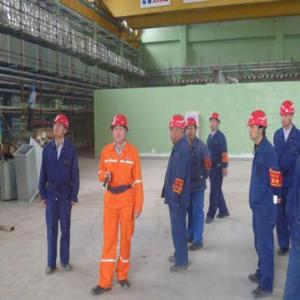red: (248, 110, 270, 143), (111, 114, 131, 147), (170, 115, 187, 144), (53, 115, 70, 140), (281, 101, 295, 127), (186, 118, 198, 141), (210, 113, 222, 131)
